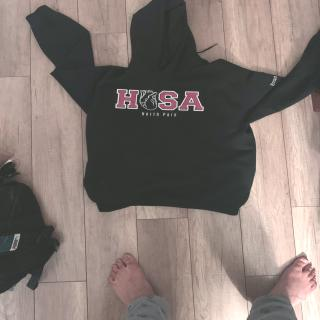HOSA hoodie: (19, 0, 320, 221)
